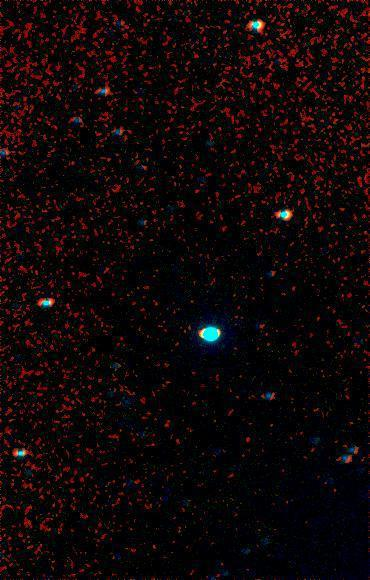star: (169, 319, 199, 349)
